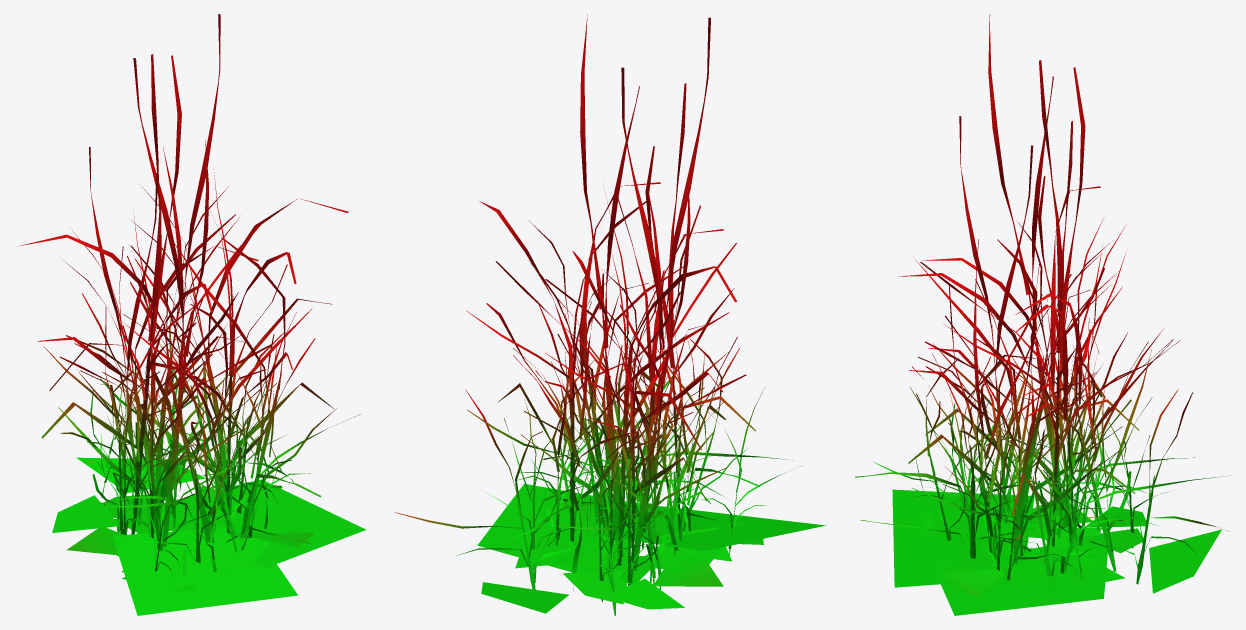
Rendered from Kikuyu Grass_LOD3_Var10_wiljearqx.fbx.
3 renders of one model, left to right at view 1: azimuth 30°, elevation 25°; view 2: azimuth 150°, elevation 25°; view 3: azimuth 270°, elevation 25°, orthographic. The views are drawn at different scales.
Visible parts, largest first — view 1: _boto_Var10_LOD3; view 2: _boto_Var10_LOD3; view 3: _boto_Var10_LOD3.
Part boxes in pixels (x1=…): _boto_Var10_LOD3: x1=18, y1=14, x2=366, y2=615; _boto_Var10_LOD3: x1=395, y1=14, x2=826, y2=615; _boto_Var10_LOD3: x1=855, y1=14, x2=1231, y2=615.
Bounding box in the file's own units: 32.36 × 53.95 × 35.06.
